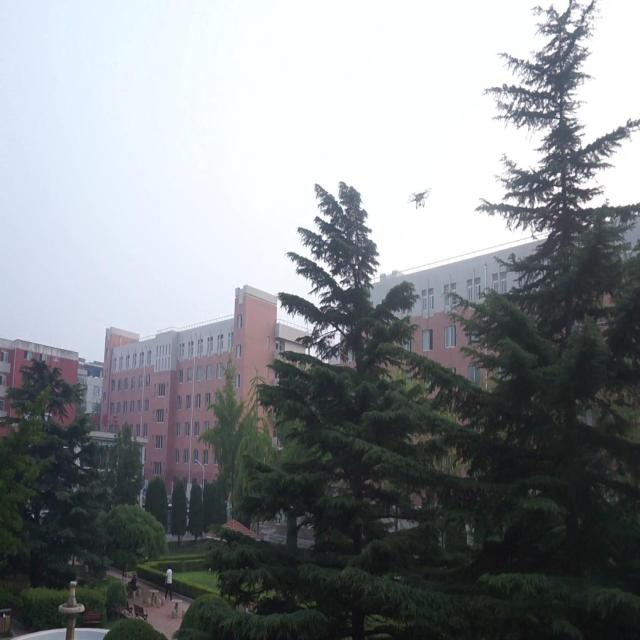drone: (404, 184, 435, 210)
